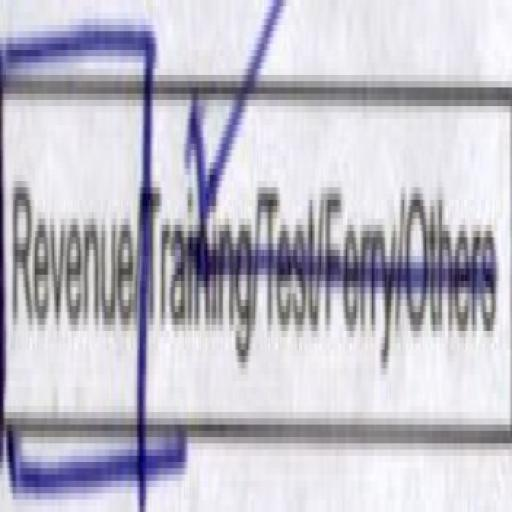check: (0, 0, 144, 512), (153, 0, 254, 512)
